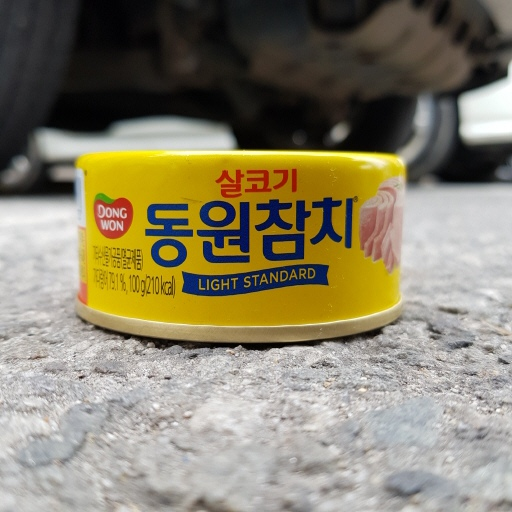Metal_1: (71, 145, 408, 346)
